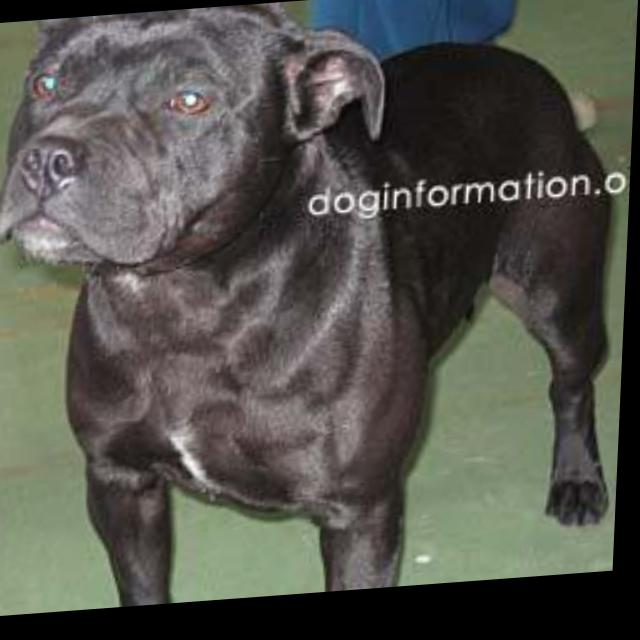staffford: (1, 1, 632, 619)
